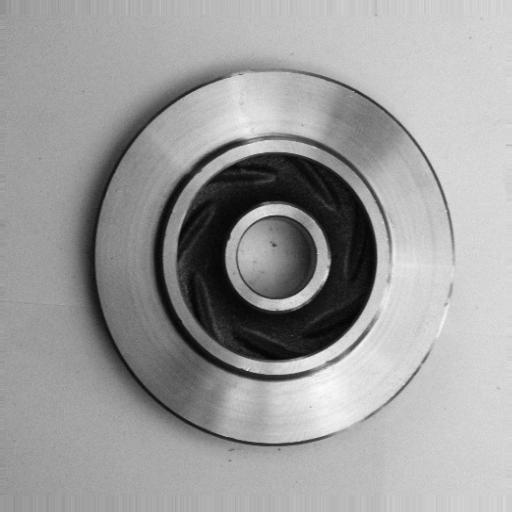scratch: (421, 254, 465, 367), (364, 238, 404, 349)
unpolished_casting: (89, 66, 462, 450)
